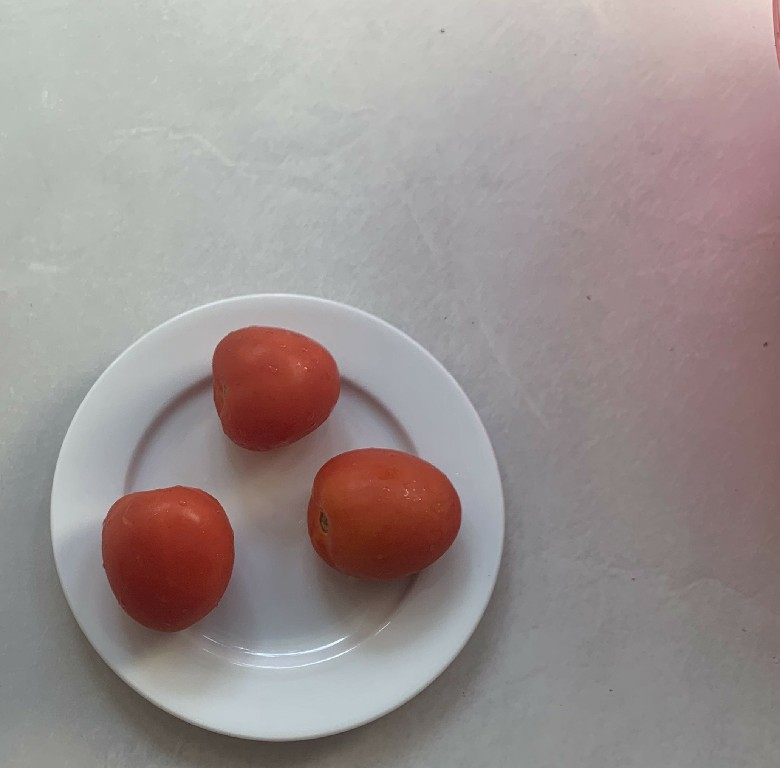OK: (300, 442, 473, 600), (93, 479, 243, 633), (205, 317, 344, 451)
